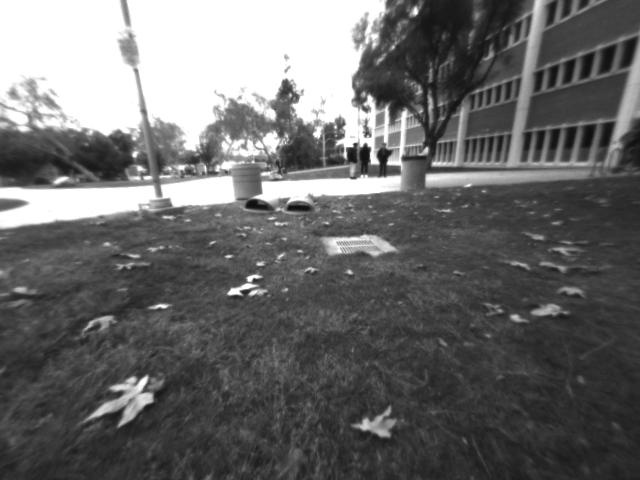trashcan: (229, 163, 267, 204), (402, 154, 431, 193)
